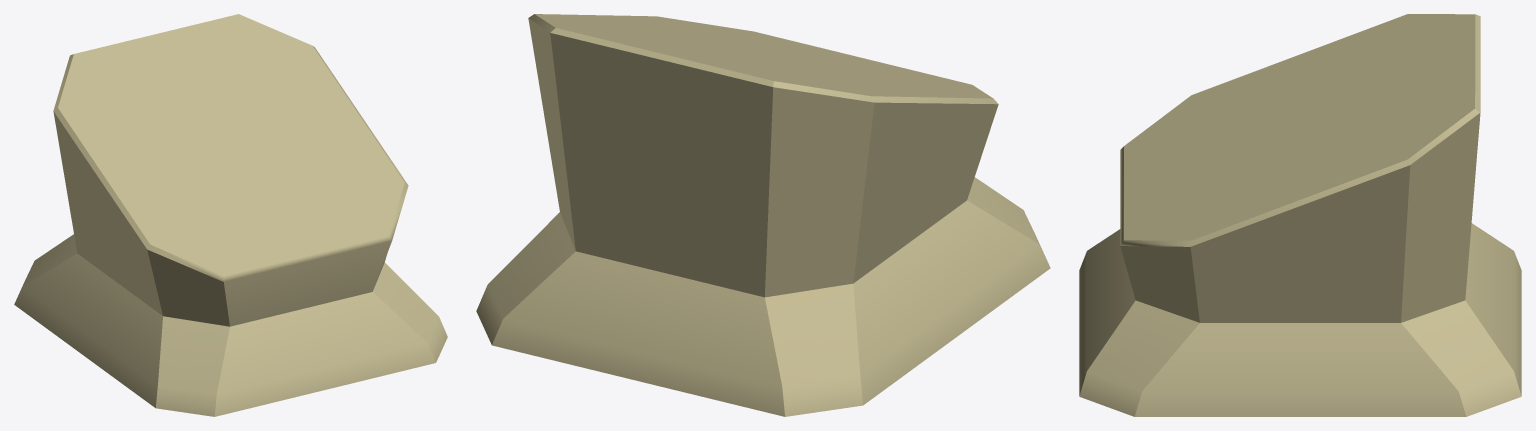
The model's file is Base_Puzzle_Fichas.fbx.
3 views of the same model, side by side, from view 1: azimuth 30°, elevation 25°; view 2: azimuth 150°, elevation 25°; view 3: azimuth 270°, elevation 25° (orthographic). The views are drawn at different scales.
Visible parts, largest first — view 1: Puzzle_1_G; view 2: Puzzle_1_G; view 3: Puzzle_1_G.
Boxes of the visible parts, bbox=[...] form: Puzzle_1_G: bbox=[14, 14, 447, 416]; Puzzle_1_G: bbox=[476, 14, 1050, 416]; Puzzle_1_G: bbox=[1079, 14, 1521, 416].
Bounding box in the file's own units: 280 × 213 × 314.
